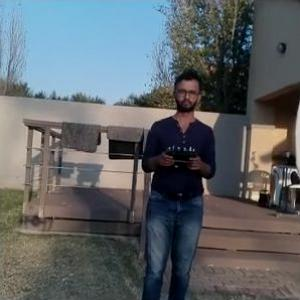follow: (133, 62, 220, 299)
